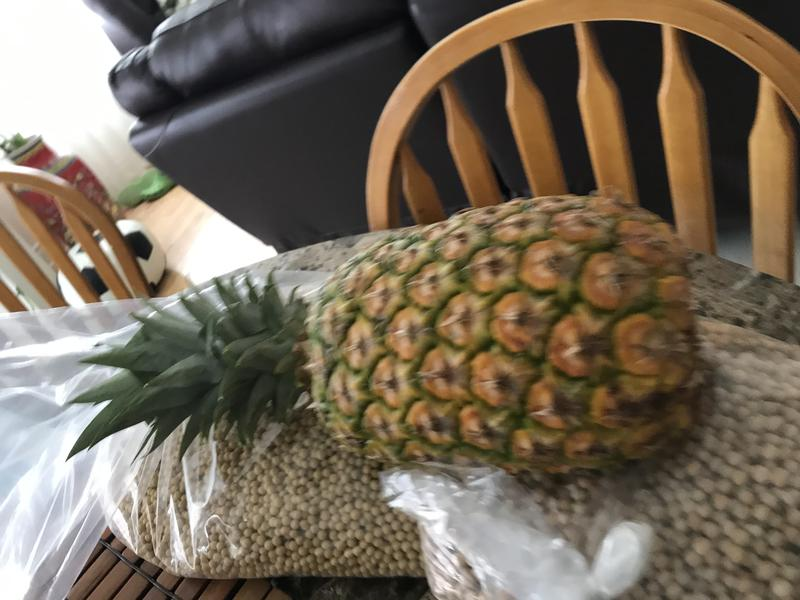pineapple: (69, 190, 712, 494)
